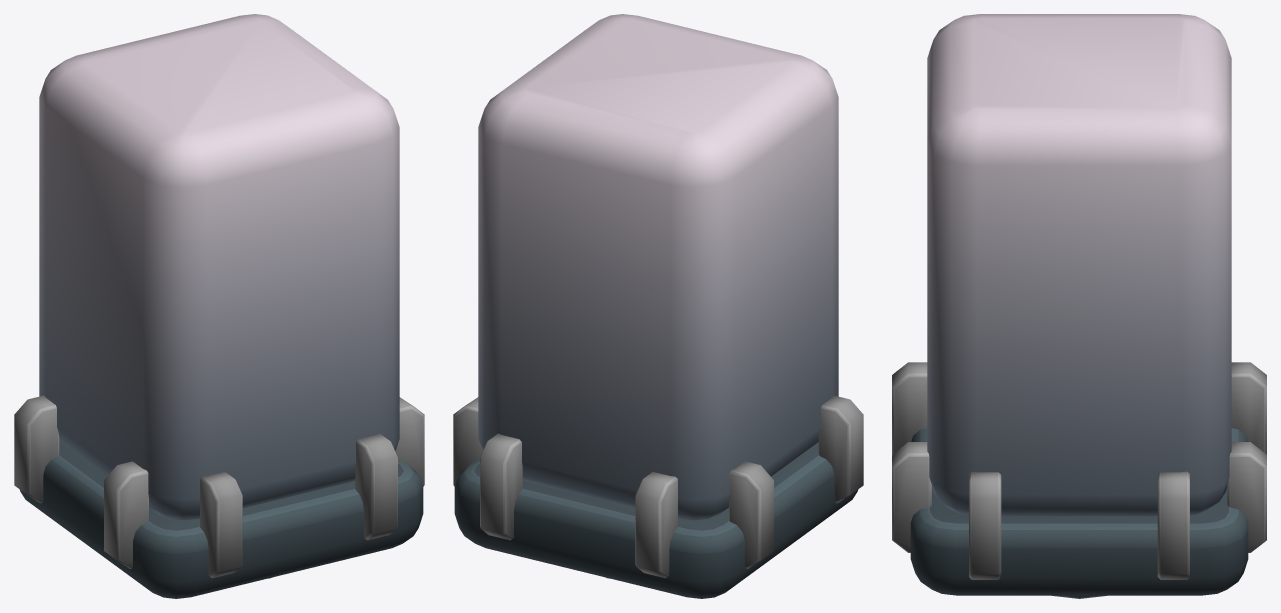
Rendered from sp_food_grower_can_cauliflower.fbx.
3 views of the same model, side by side, from view 1: azimuth 30°, elevation 25°; view 2: azimuth 150°, elevation 25°; view 3: azimuth 270°, elevation 25° (orthographic). The views are drawn at different scales.
Parts seen in each view (by area): view 1: food_canister_cauliflower; view 2: food_canister_cauliflower; view 3: food_canister_cauliflower.
Boxes of the visible parts, x1,y1,x2,y2 form: food_canister_cauliflower: (14,14,424,598); food_canister_cauliflower: (453,14,863,598); food_canister_cauliflower: (892,14,1266,598).
Size of the model in its own units: 52.23 by 78.42 by 52.23.
